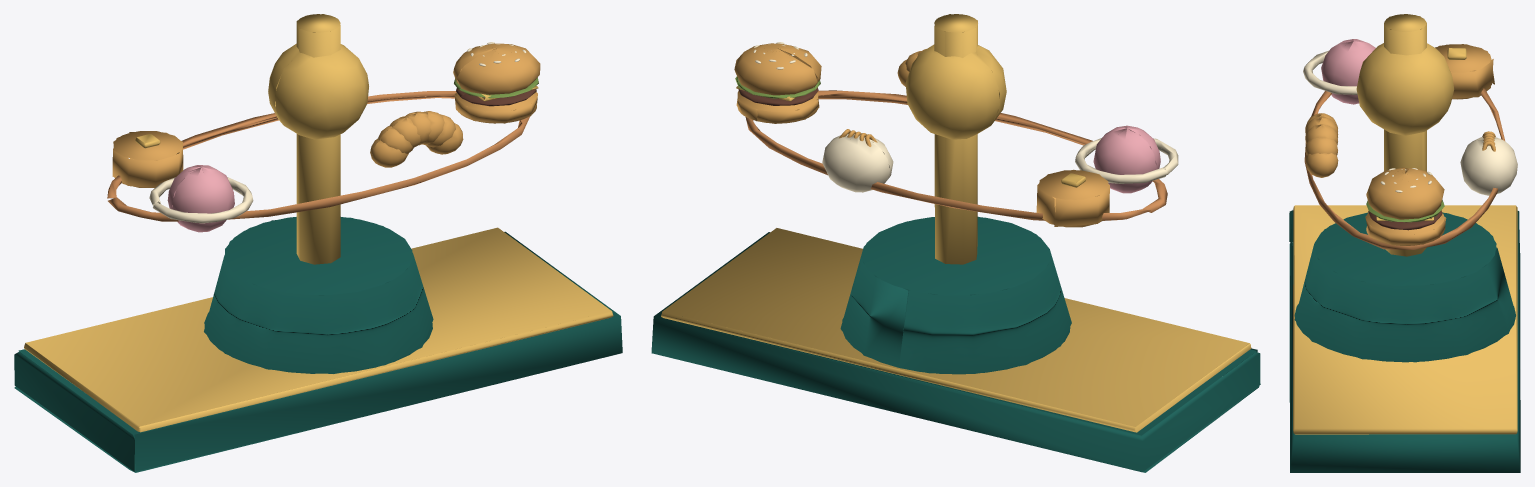
3 views of the same model, side by side, from view 1: azimuth 30°, elevation 25°; view 2: azimuth 150°, elevation 25°; view 3: azimuth 270°, elevation 25° (orthographic). The views are drawn at different scales.
Parts seen in each view (by area): view 1: Jade footing, Brass welt, Lower bun, Orbit rim, Flaky crescent, Pancake planet, Sundae planet, Sundae ring; view 2: Jade footing, Brass welt, Lower bun, Orbit rim, Pancake planet, Pleated dumpling, Sundae planet, Sundae ring; view 3: Jade footing, Brass welt, Lower bun, Pleated dumpling, Orbit rim, Pancake planet, Sundae planet, Flaky crescent, Sundae ring, Patty, Lettuce.
Boxes of the visible parts, x1=… form: Jade footing: x1=14, y1=217, x2=622, y2=472; Brass welt: x1=24, y1=14, x2=613, y2=432; Lower bun: x1=453, y1=43, x2=540, y2=123; Orbit rim: x1=107, y1=91, x2=529, y2=221; Flaky crescent: x1=370, y1=111, x2=463, y2=167; Pancake planet: x1=112, y1=131, x2=183, y2=188; Sundae planet: x1=167, y1=165, x2=234, y2=232; Sundae ring: x1=149, y1=177, x2=253, y2=223; Jade footing: x1=651, y1=216, x2=1260, y2=472; Brass welt: x1=661, y1=14, x2=1251, y2=432; Lower bun: x1=734, y1=43, x2=821, y2=123; Orbit rim: x1=745, y1=90, x2=1167, y2=220; Pancake planet: x1=1036, y1=169, x2=1109, y2=227; Pleated dumpling: x1=822, y1=132, x2=893, y2=192; Sundae planet: x1=1093, y1=125, x2=1160, y2=193; Sundae ring: x1=1075, y1=138, x2=1178, y2=183; Jade footing: x1=1289, y1=210, x2=1520, y2=472; Brass welt: x1=1293, y1=14, x2=1517, y2=434; Lower bun: x1=1365, y1=167, x2=1446, y2=245; Pleated dumpling: x1=1460, y1=136, x2=1517, y2=195; Orbit rim: x1=1304, y1=88, x2=1505, y2=249; Pancake planet: x1=1435, y1=44, x2=1494, y2=99; Sundae planet: x1=1321, y1=39, x2=1375, y2=104; Flaky crescent: x1=1305, y1=113, x2=1338, y2=177; Sundae ring: x1=1303, y1=50, x2=1357, y2=94; Patty: x1=1368, y1=210, x2=1442, y2=230; Lettuce: x1=1366, y1=200, x2=1444, y2=222.
Size of the model in its own units: 1.68 by 1.14 by 0.7098.
